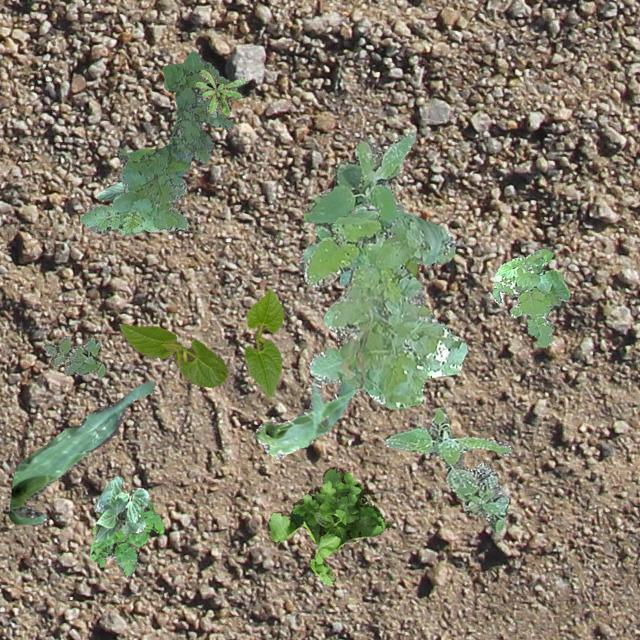crop: (8, 379, 154, 524), (255, 378, 356, 458), (118, 322, 228, 387), (298, 204, 378, 272), (244, 288, 282, 397), (92, 476, 148, 540), (95, 180, 124, 200), (403, 258, 418, 276)
weed: (304, 212, 466, 408), (78, 51, 232, 236), (302, 130, 416, 284), (384, 406, 512, 534), (266, 466, 388, 584), (492, 248, 570, 346), (88, 502, 164, 576), (42, 334, 104, 376), (194, 68, 246, 114)
